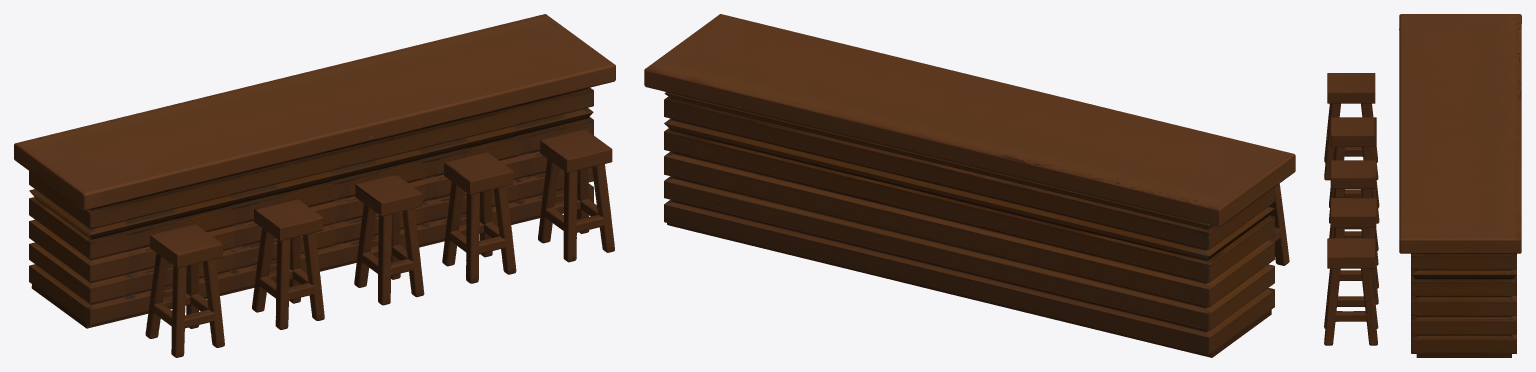
Rendered from comptoir.glb.
3 renders of one model, left to right at view 1: azimuth 30°, elevation 25°; view 2: azimuth 150°, elevation 25°; view 3: azimuth 270°, elevation 25°, orthographic. The views are drawn at different scales.
Parts seen in each view (by area): view 1: texture_pbr_v128; view 2: texture_pbr_v128; view 3: texture_pbr_v128.
Boxes of the visible parts, box(x1,y1,x2,y2) form: texture_pbr_v128: box(14, 14, 615, 357); texture_pbr_v128: box(644, 14, 1295, 357); texture_pbr_v128: box(1324, 14, 1521, 357).
Bounding box in the file's own units: 1.1 × 0.2852 × 0.4059.
Materials: 1 (1 with a texture image).
